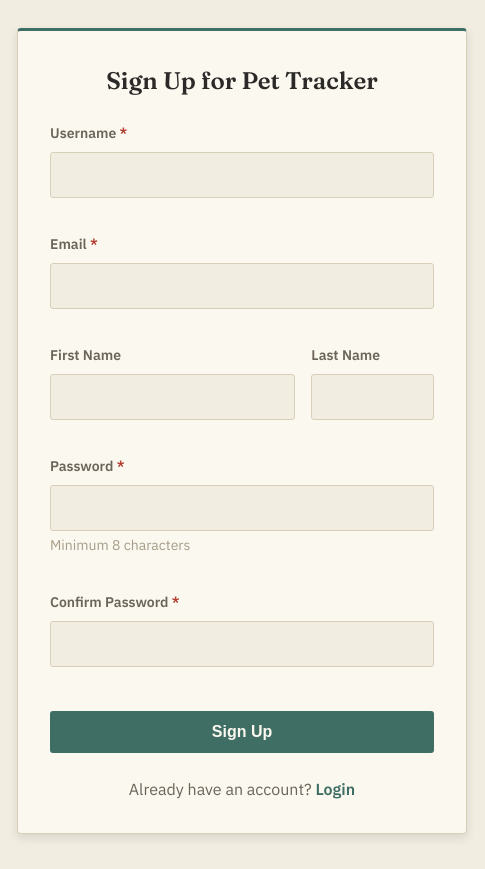
Test: Signup Component › clears field error when user starts typing
The image size is (485, 869).
// trigger error
In the field labelled "Username *": (242, 175) [50,152,434,198], type "taken"
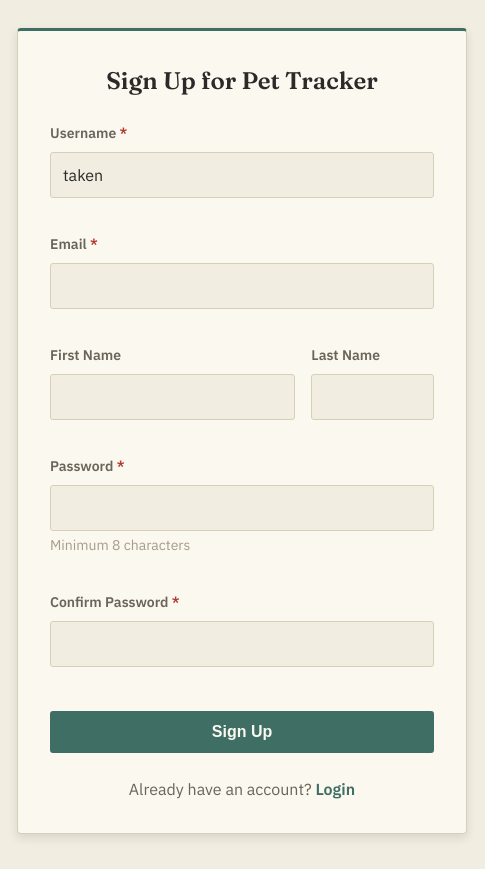
In the field labelled "Email *": (242, 286) [50,263,434,309], type "test@example.com"
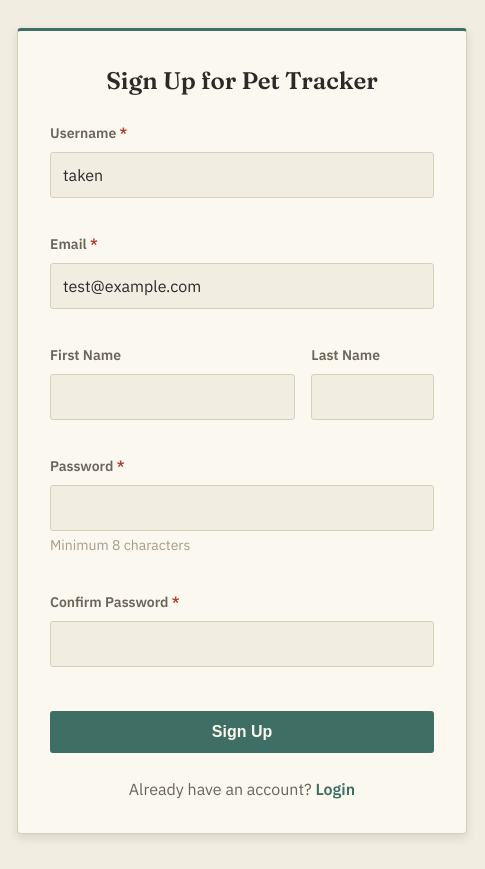
In the password field labelled "Password *": (242, 508) [50,485,434,531], type "password123"
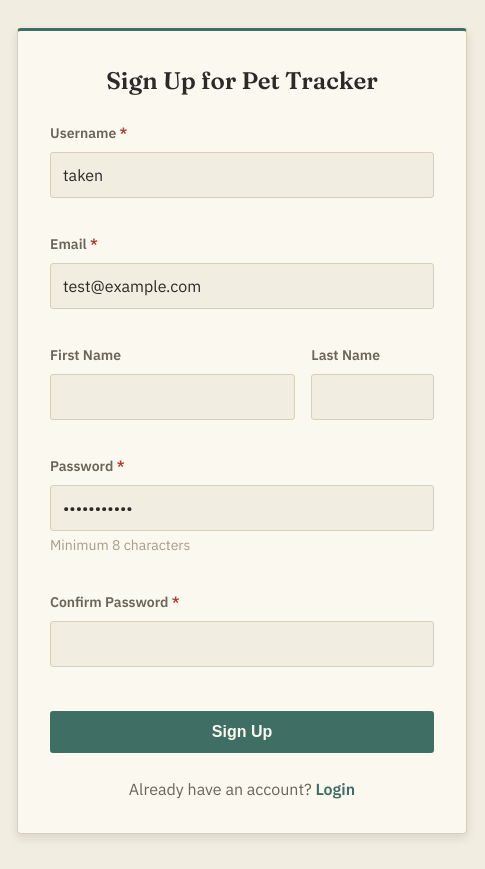
In the password field labelled "Confirm Password *": (242, 644) [50,621,434,667], type "password123"
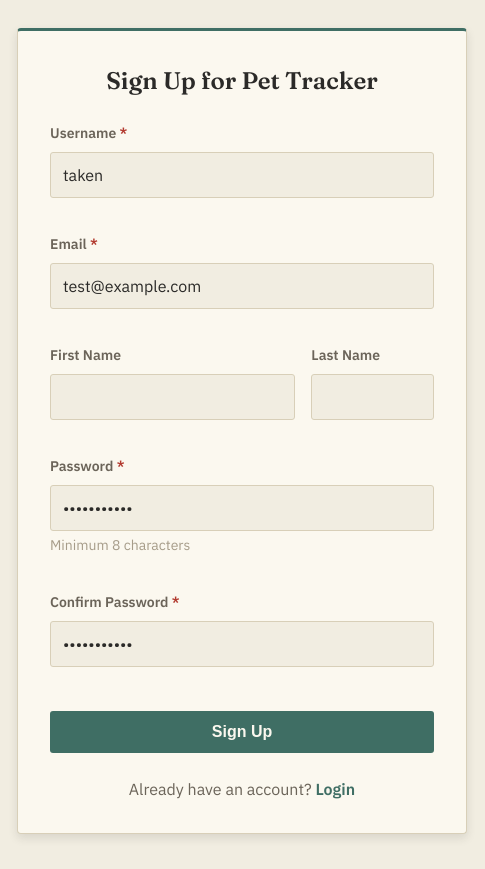
Click the button "Sign Up": (242, 732) [50,711,434,753]
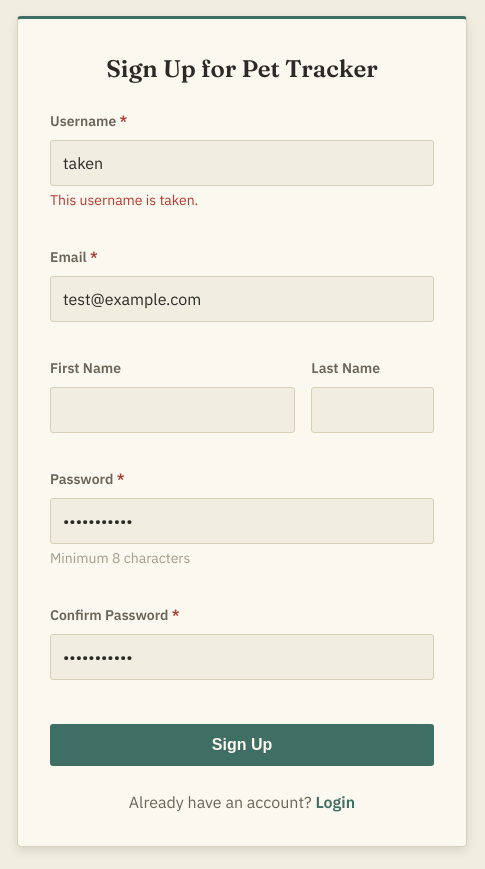
Expected: the text "This username is taken." is shown, [50,190,198,208]
// start typing
Replace the text in the field labelled "Username *" with "newtaken": (242, 162) [50,140,434,186]
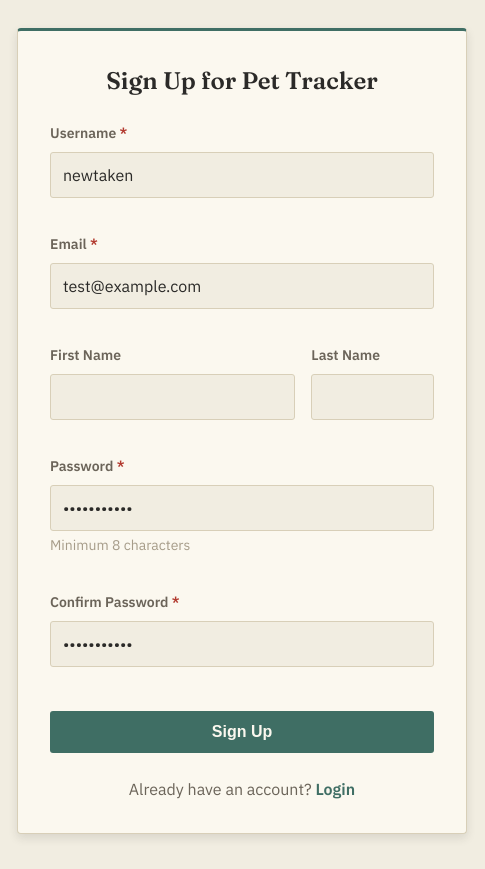
Expected: the text "This username is taken." is gone
